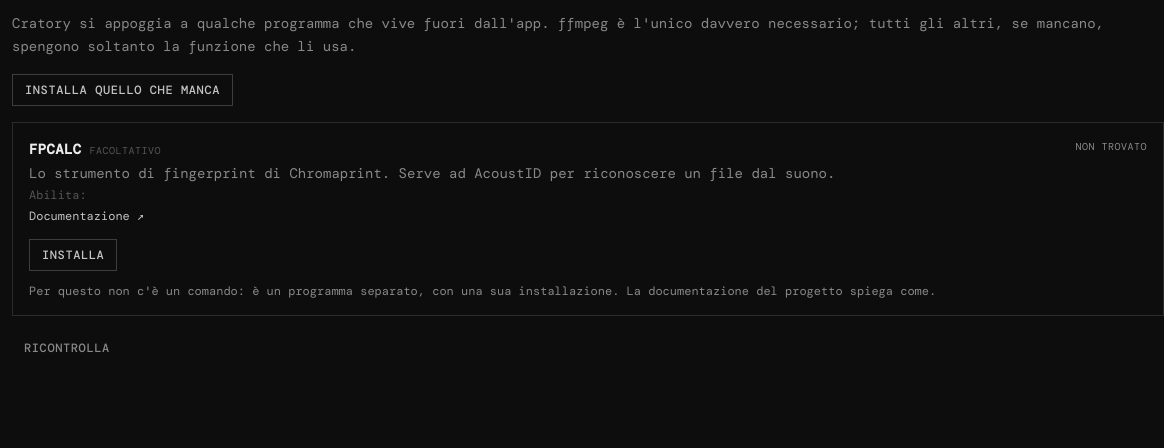
Test: PrerequisitesStep › un avvio fallito (409, rete) viene mostrato invece di sparire nel nulla (fix 1)
Click the button "Installa quello che manca" at (122, 90), box [12,74,233,106]
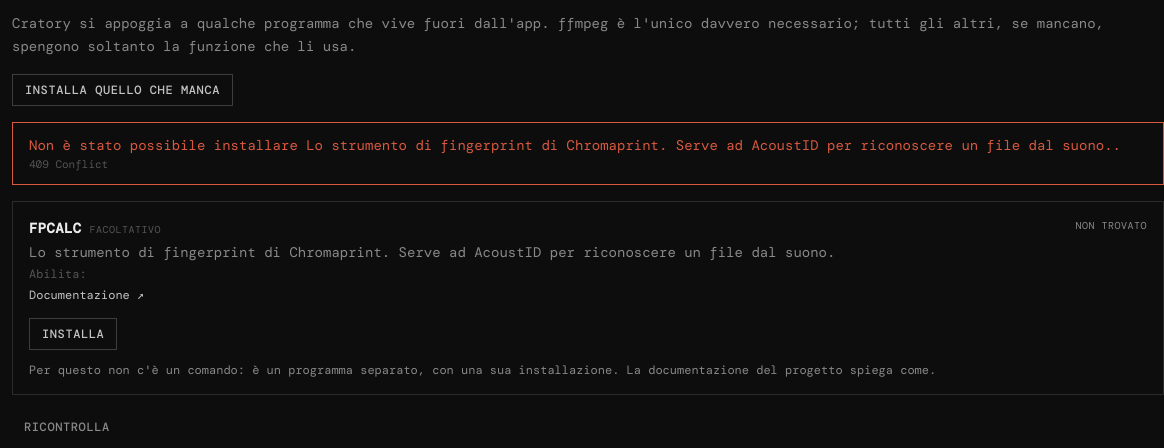
Now the text "409 Conflict" is shown, box [29,156,108,170]
